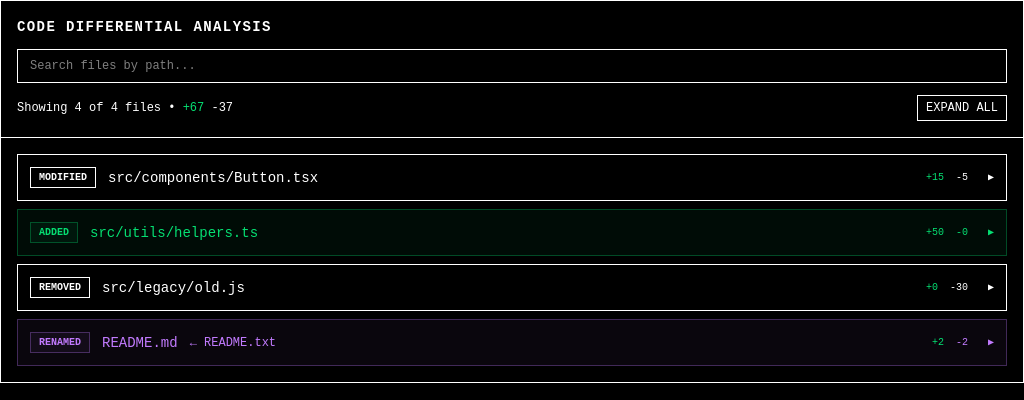
Test: InteractiveDiffViewer › shows no match message when filters return empty
Type "nonexistent" into the field with placeholder "Search files by path..." at coordinates (512, 66), box x1=17 y1=49 x2=1007 y2=83
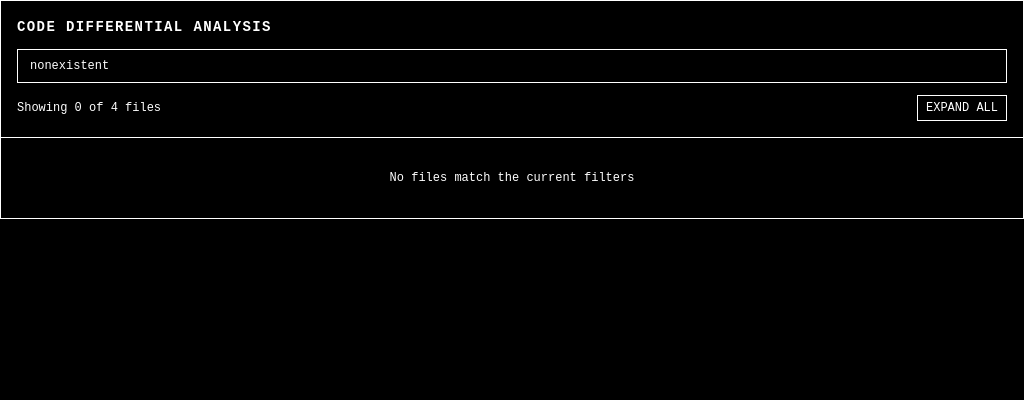
Expected: the text "No files match the current filters" is shown, x1=390 y1=171 x2=634 y2=185
